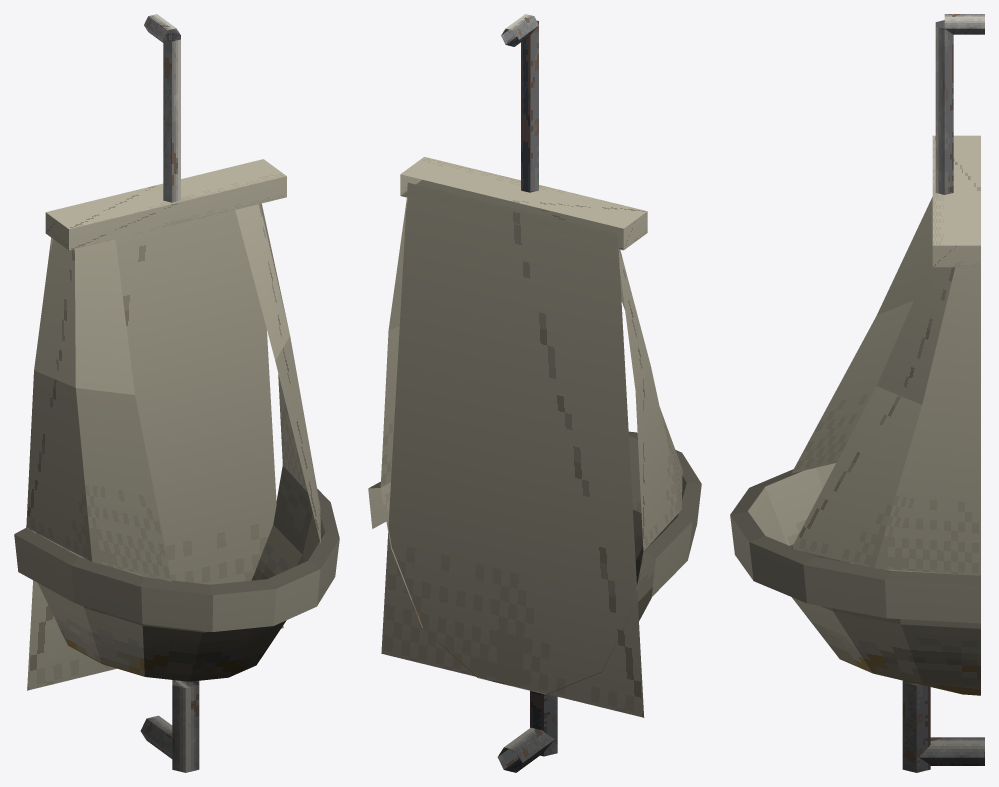
File: prop_urinal-3.glb
3 renders of one model, left to right at view 1: azimuth 30°, elevation 25°; view 2: azimuth 150°, elevation 25°; view 3: azimuth 270°, elevation 25°, orthographic. The views are drawn at different scales.
Visible parts, largest first — view 1: prop_urinal-3; view 2: prop_urinal-3; view 3: prop_urinal-3.
Boxes of the visible parts, x1=… form: prop_urinal-3: x1=14, y1=14, x2=339, y2=772; prop_urinal-3: x1=368, y1=14, x2=701, y2=772; prop_urinal-3: x1=730, y1=14, x2=984, y2=772.
Bounding box in the file's own units: 0.416 × 1.03 × 0.317.
3 materials, 3 textured.
